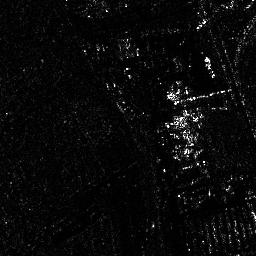ship: (201, 54, 218, 79)
